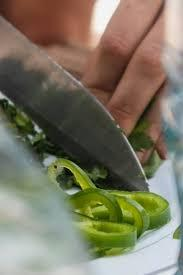Knife: (0, 10, 149, 192)
